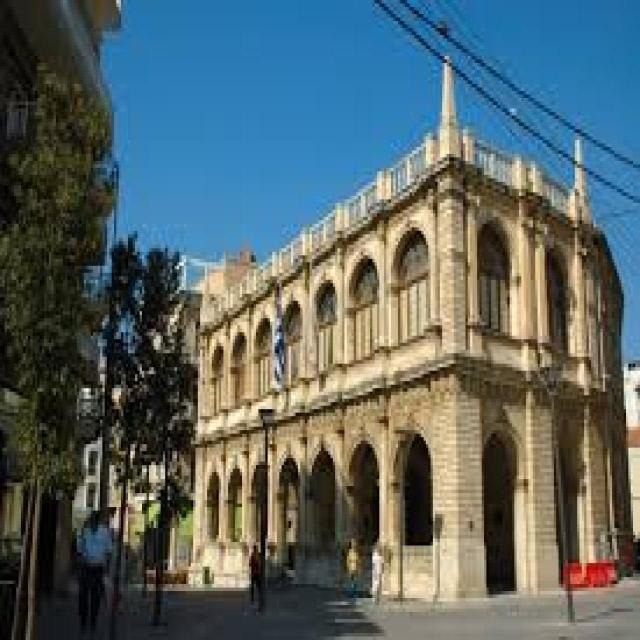Loggia: (198, 59, 640, 592)
